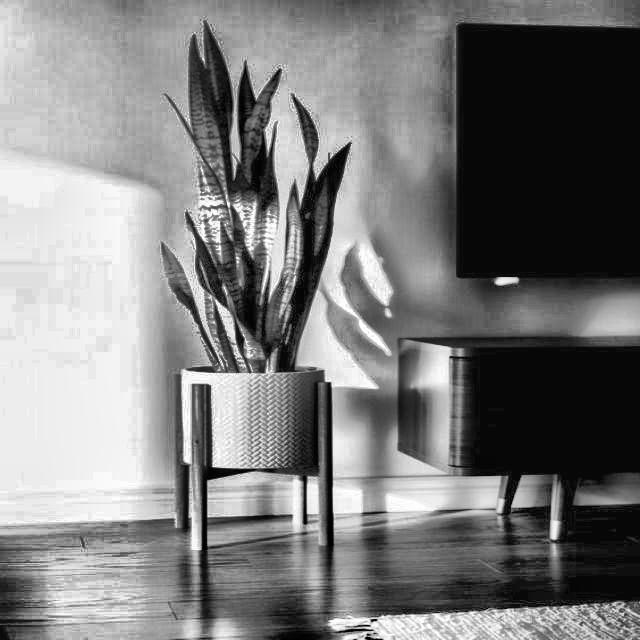plants: (150, 21, 358, 374)
